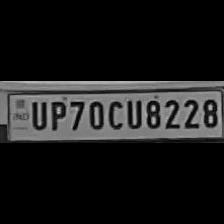0: (84, 97, 106, 130)
2: (162, 96, 180, 130), (180, 96, 198, 130)
7: (66, 97, 86, 131)
8: (142, 96, 162, 130), (200, 96, 218, 128)
C: (106, 96, 124, 130)
P: (46, 97, 66, 131)
U: (26, 98, 48, 130), (122, 96, 142, 130)
